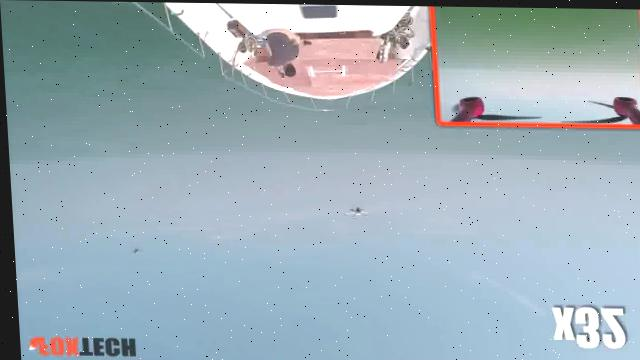drone: (334, 193, 373, 227), (120, 240, 150, 263)
